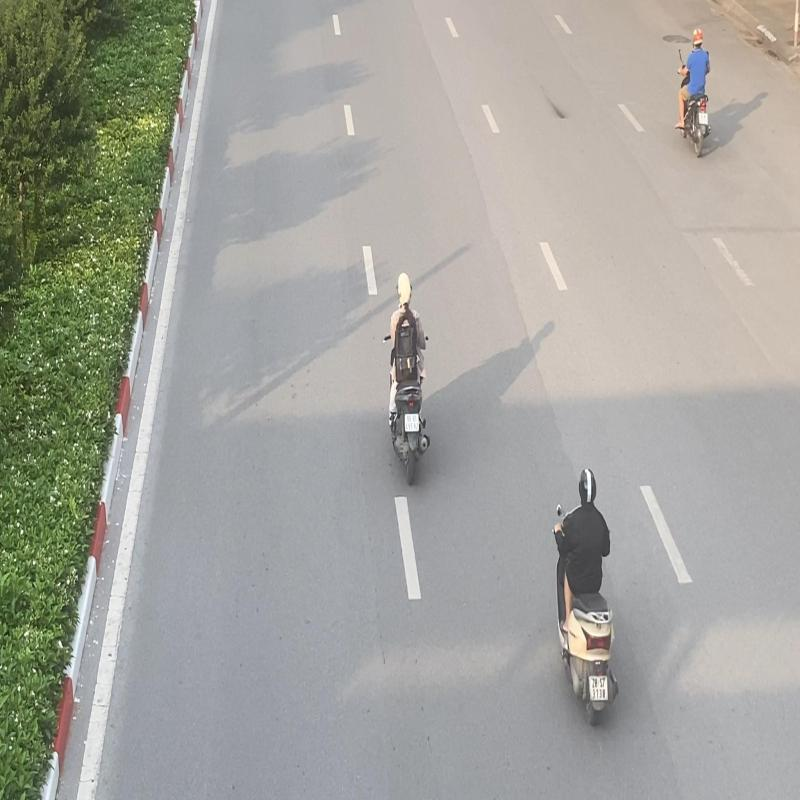helmet: (578, 468, 598, 504), (396, 270, 412, 308), (692, 28, 703, 48)
licenseplate: (590, 674, 608, 700), (404, 413, 419, 431), (698, 112, 708, 125)
motorcyclist: (552, 466, 620, 728), (381, 270, 432, 488), (674, 28, 712, 158)
